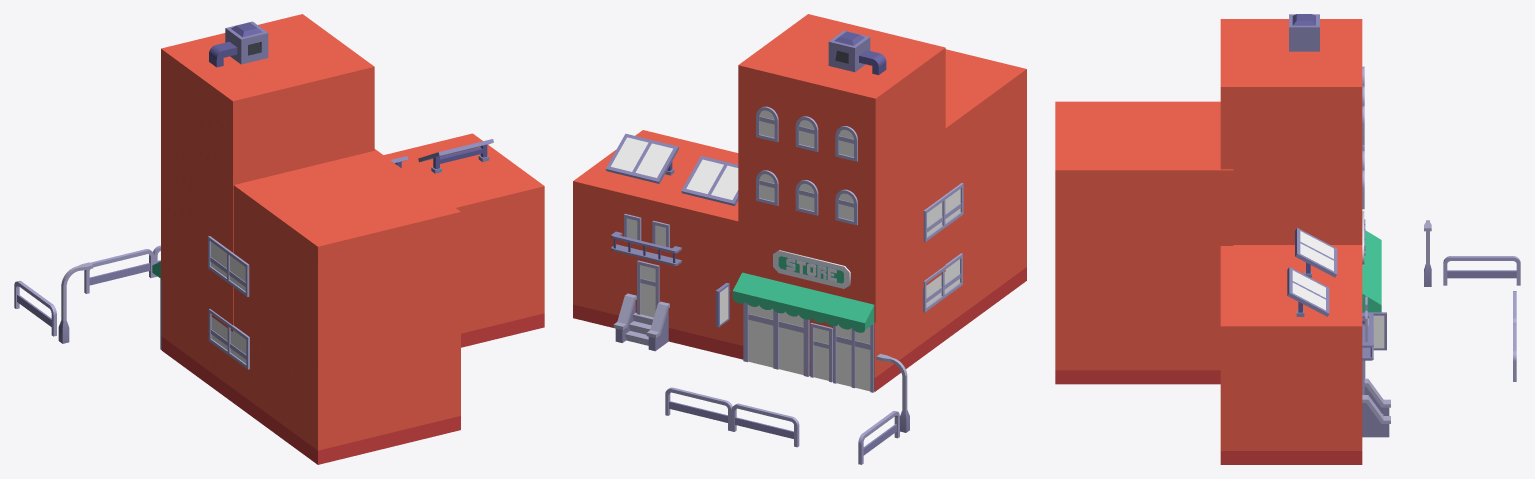
Rendered from bodega.glb.
3 renders of one model, left to right at view 1: azimuth 30°, elevation 25°; view 2: azimuth 150°, elevation 25°; view 3: azimuth 270°, elevation 25°, orthographic. The views are drawn at different scales.
Visible parts, largest first — view 1: mergedBlocks(Clone); view 2: mergedBlocks(Clone); view 3: mergedBlocks(Clone).
Boxes of the visible parts, x1,y1,x2,y2 form: mergedBlocks(Clone): [14, 14, 544, 464]; mergedBlocks(Clone): [573, 14, 1026, 464]; mergedBlocks(Clone): [1055, 14, 1520, 464].
Bounding box in the file's own units: 1.11 × 0.93 × 1.2.
